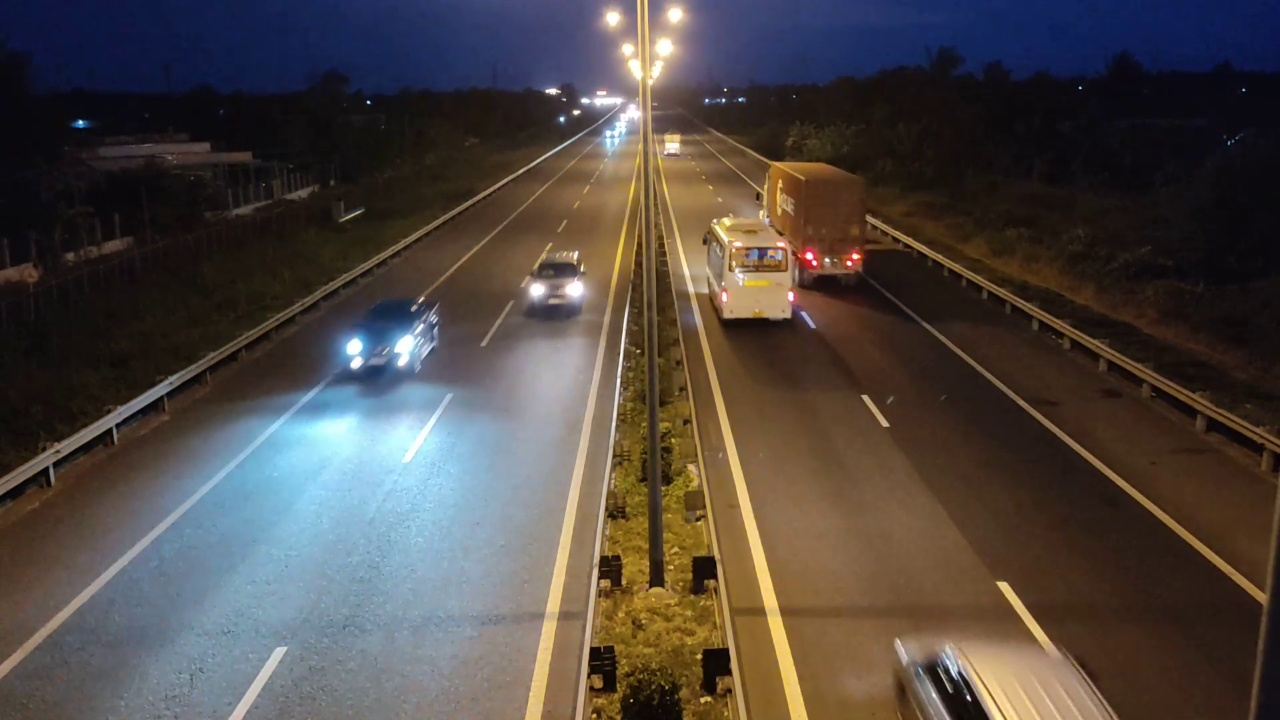bus: (702, 215, 797, 325)
car: (893, 636, 999, 719), (342, 297, 442, 378), (522, 250, 587, 320)
truck: (761, 159, 869, 288)
